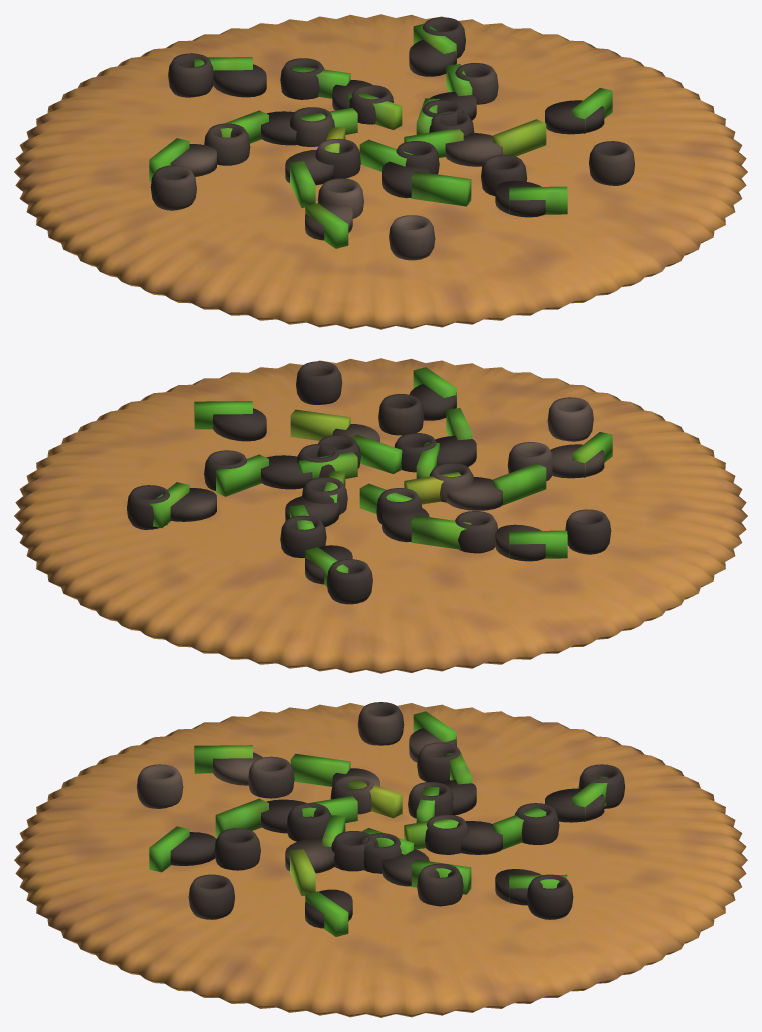
The model's file is farmhouse-supreme-pizza-high.glb.
3 renders of one model, top to bottom at view 1: azimuth 30°, elevation 25°; view 2: azimuth 150°, elevation 25°; view 3: azimuth 270°, elevation 25°, orthographic.
Visible parts, largest first — view 1: Mesh_Artisan_Pizza_Crust, Mesh_Black_Olives_And_Mushrooms, Mesh_Farmhouse_Peppers_And_Corn; view 2: Mesh_Artisan_Pizza_Crust, Mesh_Black_Olives_And_Mushrooms, Mesh_Farmhouse_Peppers_And_Corn; view 3: Mesh_Artisan_Pizza_Crust, Mesh_Black_Olives_And_Mushrooms, Mesh_Farmhouse_Peppers_And_Corn.
Boxes of the visible parts, x1,y1,x2,y2 form: Mesh_Artisan_Pizza_Crust: (14,14,747,329); Mesh_Black_Olives_And_Mushrooms: (150,17,634,260); Mesh_Farmhouse_Peppers_And_Corn: (149,23,612,248); Mesh_Artisan_Pizza_Crust: (14,358,747,673); Mesh_Black_Olives_And_Mushrooms: (127,361,611,604); Mesh_Farmhouse_Peppers_And_Corn: (149,367,612,586); Mesh_Artisan_Pizza_Crust: (14,703,747,1017); Mesh_Black_Olives_And_Mushrooms: (136,702,625,928); Mesh_Farmhouse_Peppers_And_Corn: (149,711,607,936).
Size of the model in its own units: 2.4 by 0.28 by 2.4.
4 materials, 4 textured.
